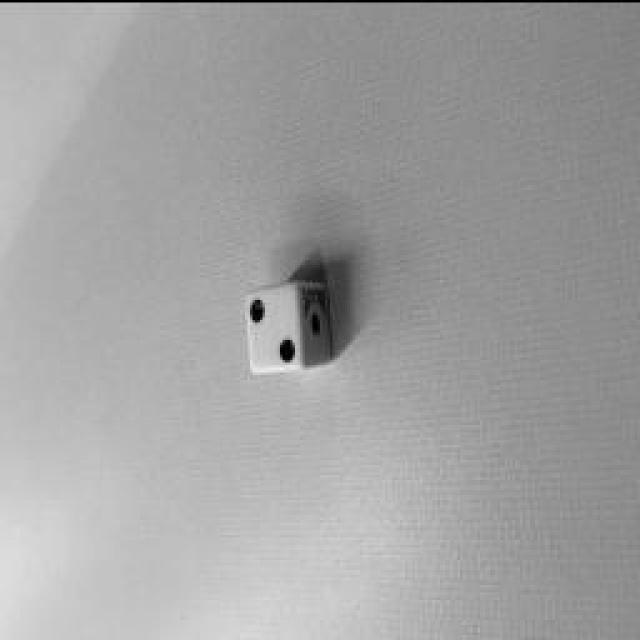dice_2: (248, 280, 302, 370)
